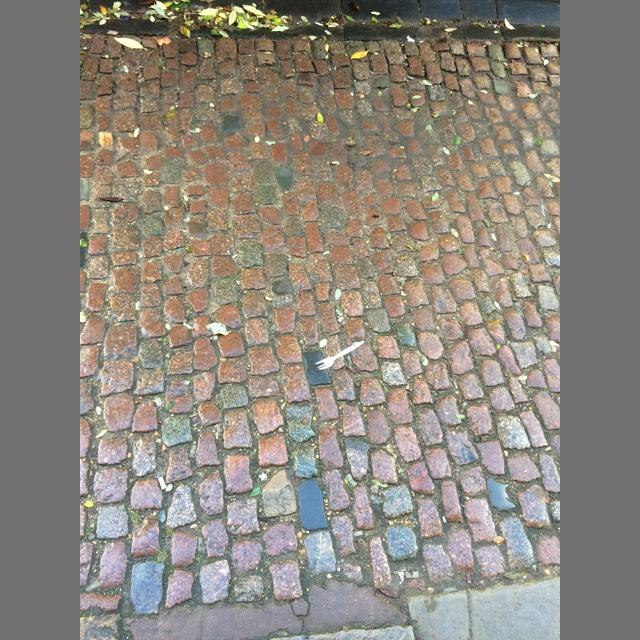litter: (315, 340, 365, 370)
